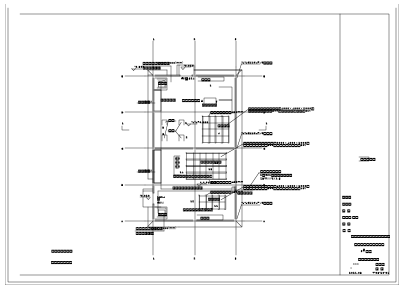door: (236, 214, 237, 225)
room: (344, 10, 394, 280), (174, 114, 180, 133)
staircase: (178, 60, 242, 222), (146, 109, 166, 222), (146, 60, 178, 81), (178, 217, 194, 227), (141, 81, 151, 97), (146, 60, 151, 66), (237, 60, 242, 66), (237, 217, 242, 222), (146, 217, 151, 222), (176, 217, 178, 227), (141, 97, 151, 99)
wall: (249, 99, 260, 116), (238, 141, 242, 156), (238, 214, 242, 228), (238, 69, 242, 83), (233, 96, 236, 101), (157, 72, 160, 75), (175, 121, 178, 124), (175, 125, 178, 128), (175, 129, 178, 132), (157, 208, 160, 210)
window: (184, 212, 188, 215), (156, 88, 159, 91), (180, 212, 183, 214), (186, 212, 189, 214), (156, 84, 159, 86), (156, 90, 159, 92), (177, 121, 178, 122), (175, 121, 176, 122), (177, 123, 178, 124), (175, 123, 176, 124), (177, 125, 178, 126), (175, 125, 176, 126), (177, 127, 178, 128), (175, 127, 176, 128), (177, 129, 178, 130), (175, 129, 176, 130), (177, 131, 178, 132), (175, 131, 176, 132)
